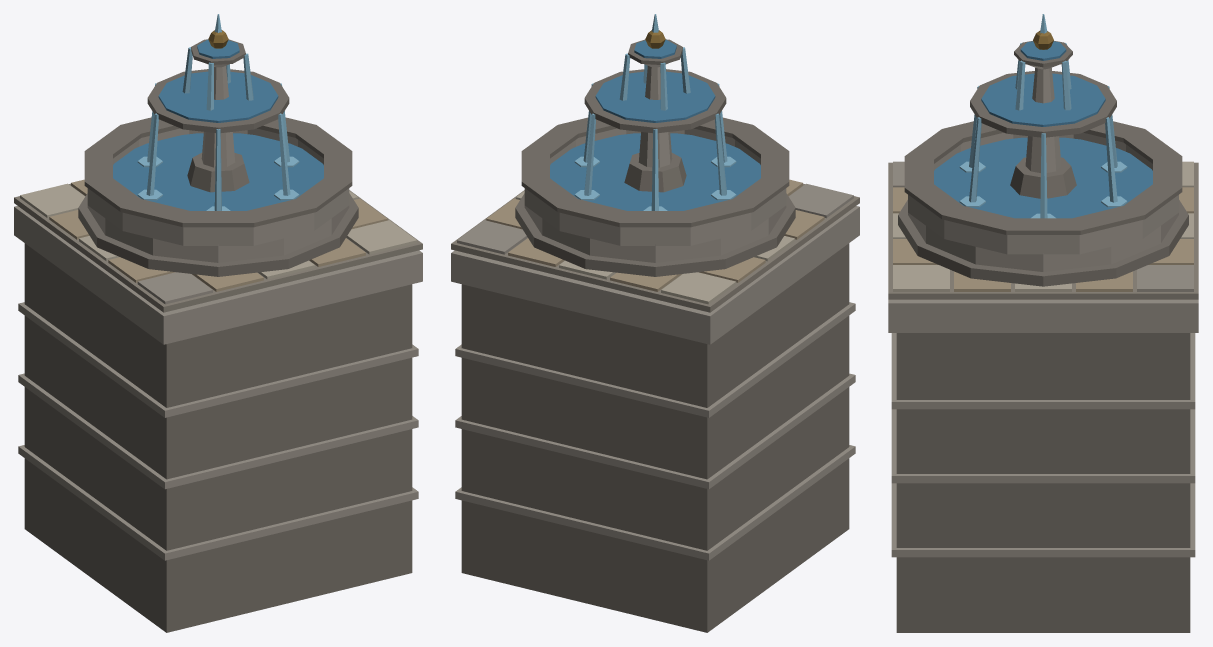
File: decor_fountain.glb
3 views of the same model, side by side, from view 1: azimuth 30°, elevation 25°; view 2: azimuth 150°, elevation 25°; view 3: azimuth 270°, elevation 25° (orthographic). The views are drawn at different scales.
Parts seen in each view (by area): view 1: decor_fountain; view 2: decor_fountain; view 3: decor_fountain.
Part boxes in pixels (box(x1,y1,x2,y2)): decor_fountain: box(14, 14, 422, 632); decor_fountain: box(451, 14, 859, 632); decor_fountain: box(888, 14, 1198, 632).
Bounding box in the file's own units: 3.8 × 7.52 × 3.8.
